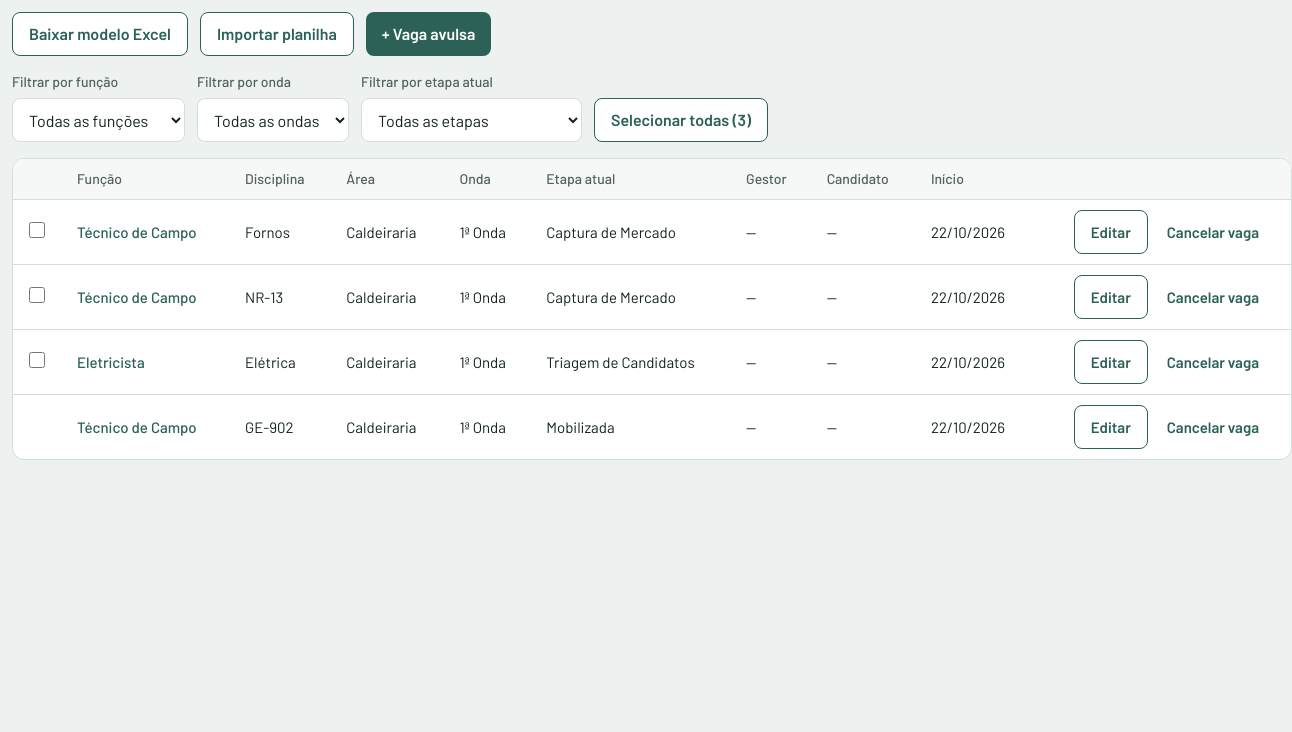
vagas em etapas diferentes não avançam juntas
The width and height of the screenshot is (1292, 732).
Click the checkbox named "Selecionar Técnico de Campo · Fornos" at x=37, y=230, box [29, 222, 45, 238]
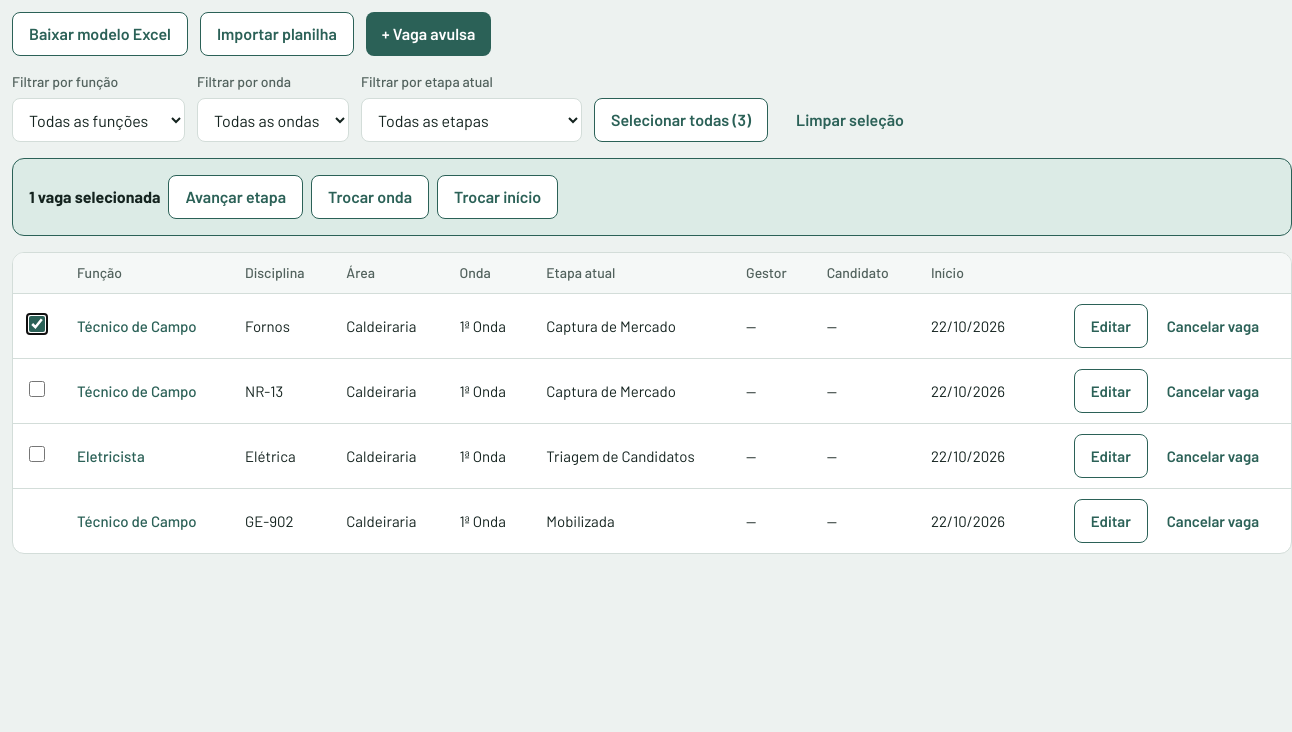
Click the checkbox named "Selecionar Eletricista · Elétrica" at x=37, y=454, box [29, 446, 45, 462]
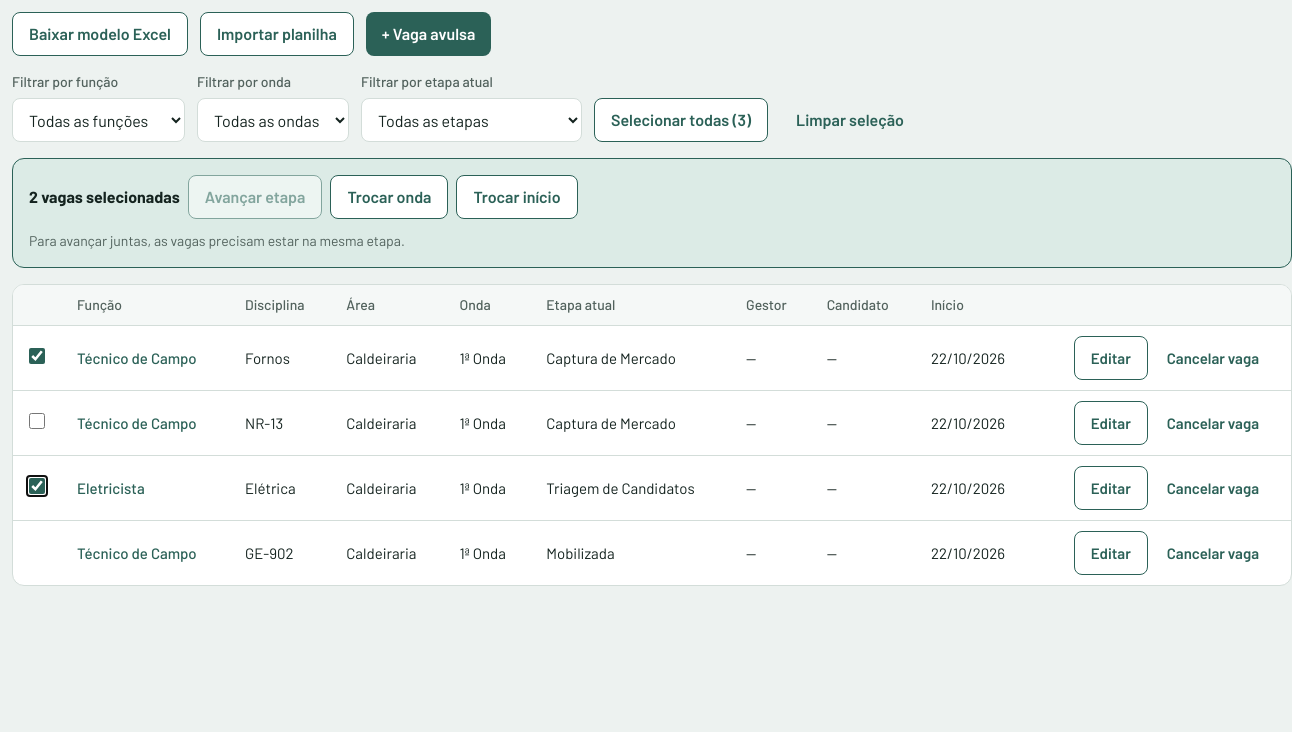
Expected: the button "Avançar etapa" is disabled, [188, 175, 322, 219]
Expected: the text "Para avançar juntas, as vagas precisam estar na mesma etapa." is shown, [29, 232, 405, 249]
